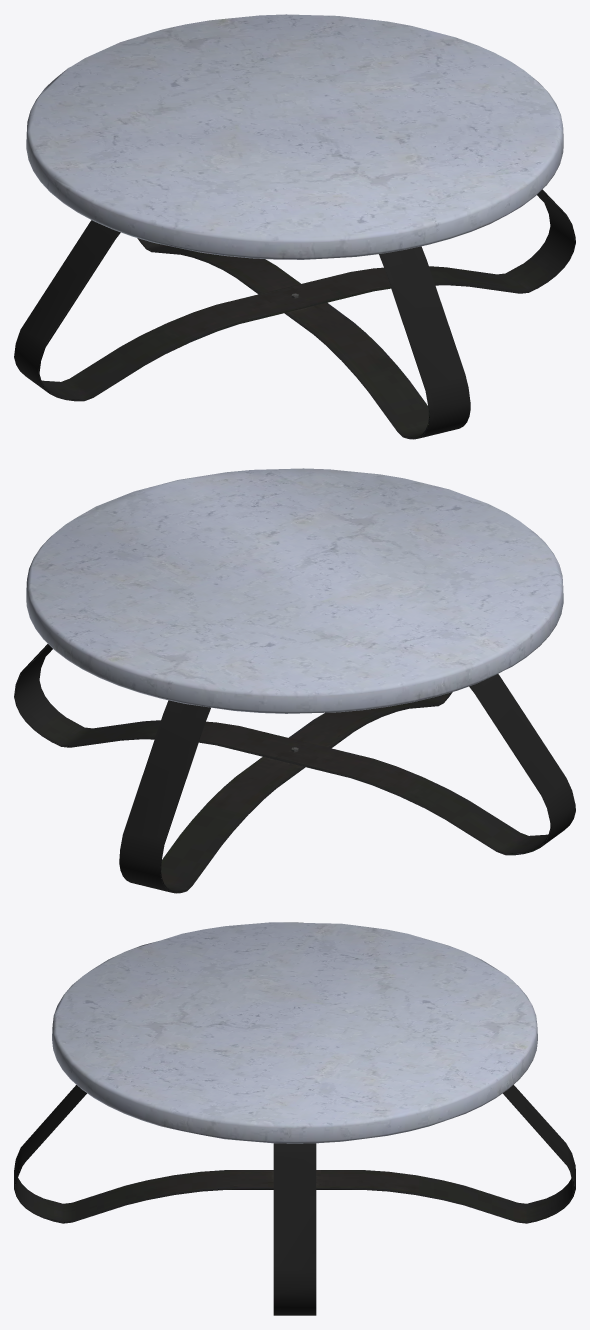
The model's file is prop-coffee-ed2101f9.glb.
3 renders of one model, top to bottom at view 1: azimuth 30°, elevation 25°; view 2: azimuth 150°, elevation 25°; view 3: azimuth 270°, elevation 25°, orthographic. The views are drawn at different scales.
Parts seen in each view (by area): view 1: coffee_table_round_01; view 2: coffee_table_round_01; view 3: coffee_table_round_01.
Boxes of the visible parts, <box> form: coffee_table_round_01: <box>14,14,575,439</box>; coffee_table_round_01: <box>14,468,575,893</box>; coffee_table_round_01: <box>14,922,575,1315</box>.
Bounding box in the file's own units: 1.3 × 0.4909 × 1.3.
1 material, 1 textured.
